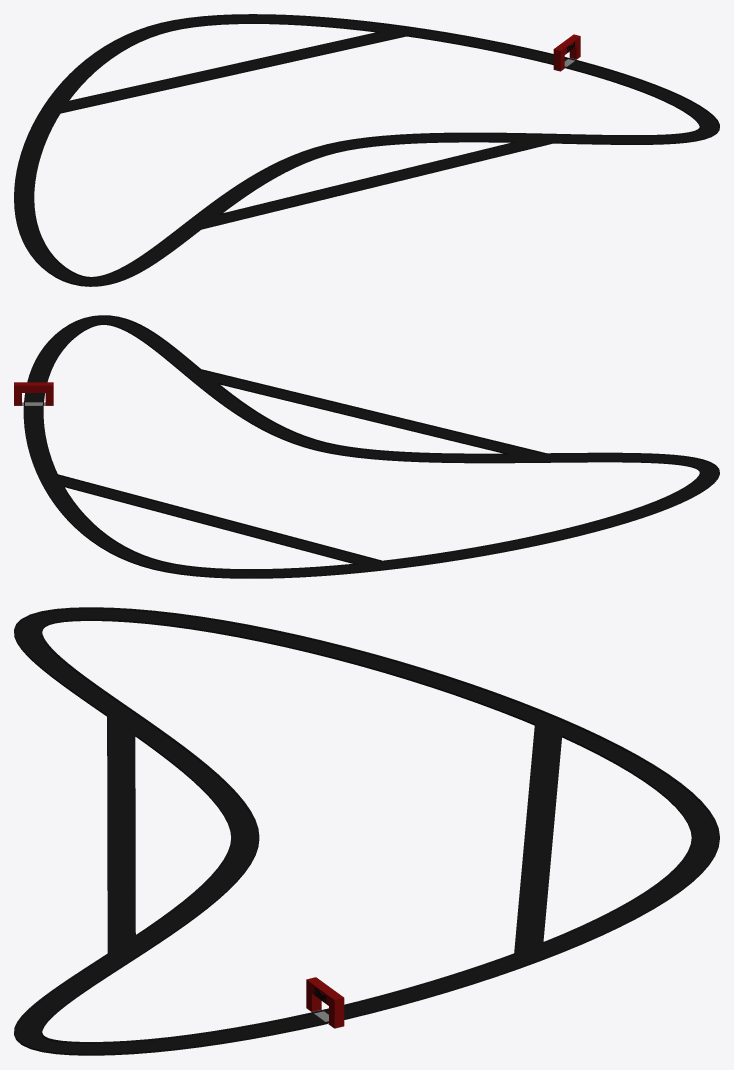
Rendered from Race Track.fbx.
The picture shows the model from 3 angles, top to bottom: view 1: azimuth 30°, elevation 25°; view 2: azimuth 150°, elevation 25°; view 3: azimuth 270°, elevation 25°; orthographic projection. The views are drawn at different scales.
Parts seen in each view (by area): view 1: Circle001, Walls, Box001; view 2: Circle001, Walls, Box001; view 3: Circle001, Walls, Box001.
Part boxes in pixels (x1=…): Circle001: x1=15, y1=15, x2=718, y2=284; Walls: x1=14, y1=14, x2=719, y2=286; Box001: x1=553, y1=34, x2=580, y2=71; Circle001: x1=24, y1=316, x2=718, y2=576; Walls: x1=23, y1=315, x2=719, y2=578; Box001: x1=14, y1=382, x2=53, y2=405; Circle001: x1=15, y1=609, x2=718, y2=1053; Walls: x1=14, y1=607, x2=719, y2=1055; Box001: x1=306, y1=977, x2=344, y2=1028.
Size of the model in its own units: 1877 by 57.23 by 1254.
